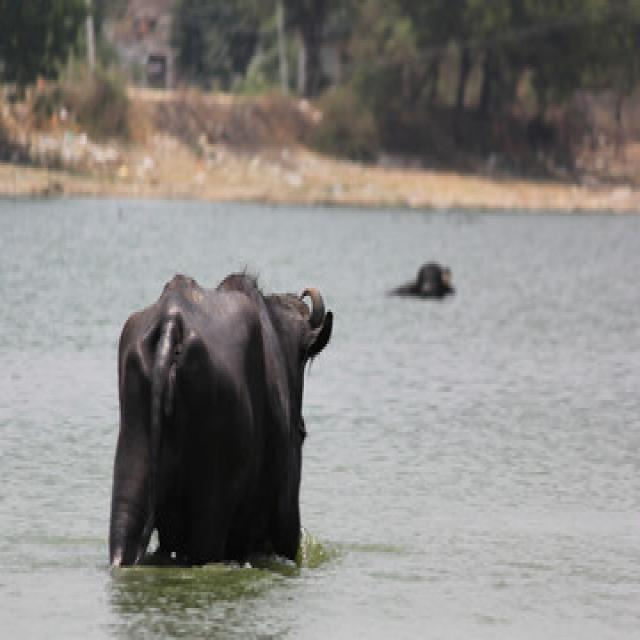Buffalo: (105, 264, 334, 571)
